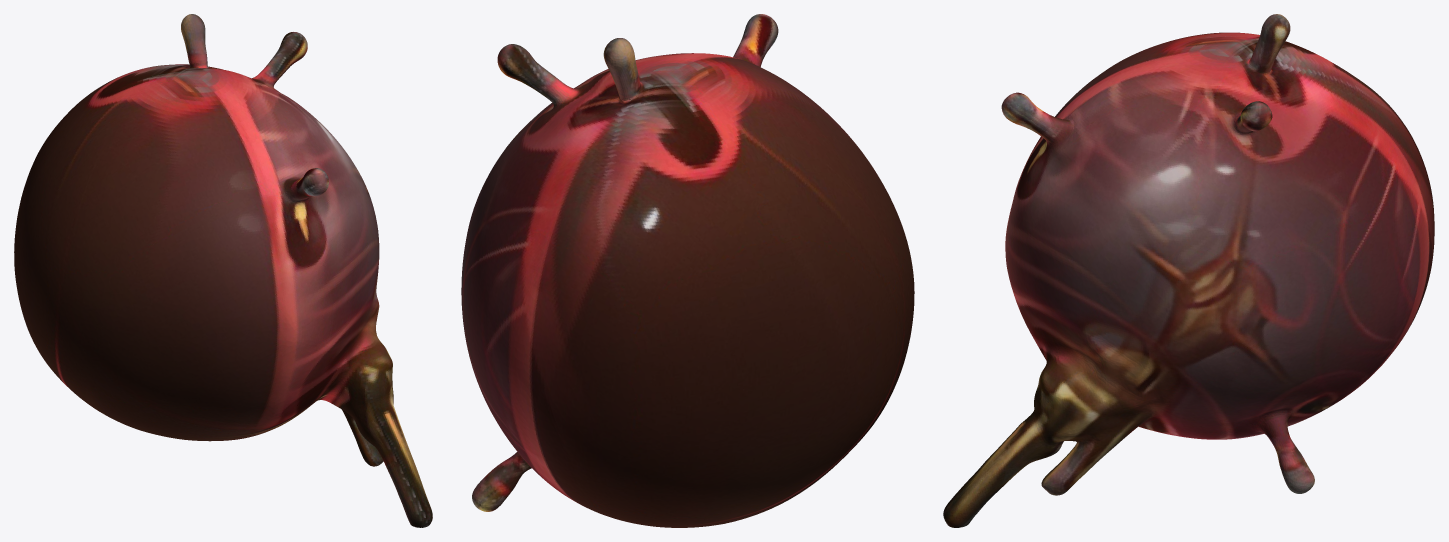
The model's file is ancient_sensor.glb.
3 renders of one model, left to right at view 1: azimuth 30°, elevation 25°; view 2: azimuth 150°, elevation 25°; view 3: azimuth 270°, elevation 25°, orthographic. The views are drawn at different scales.
Bounding box in the file's own units: 1.57 × 1.99 × 1.91.
Materials: 1 (1 with a texture image).
